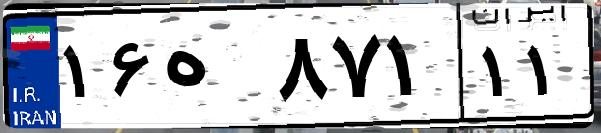1: (385, 28, 445, 110), (57, 26, 110, 100), (475, 38, 525, 113), (525, 38, 570, 115)
6: (110, 28, 158, 98)
7: (330, 28, 385, 110)
8: (270, 28, 330, 110)
ه: (158, 20, 270, 120)
